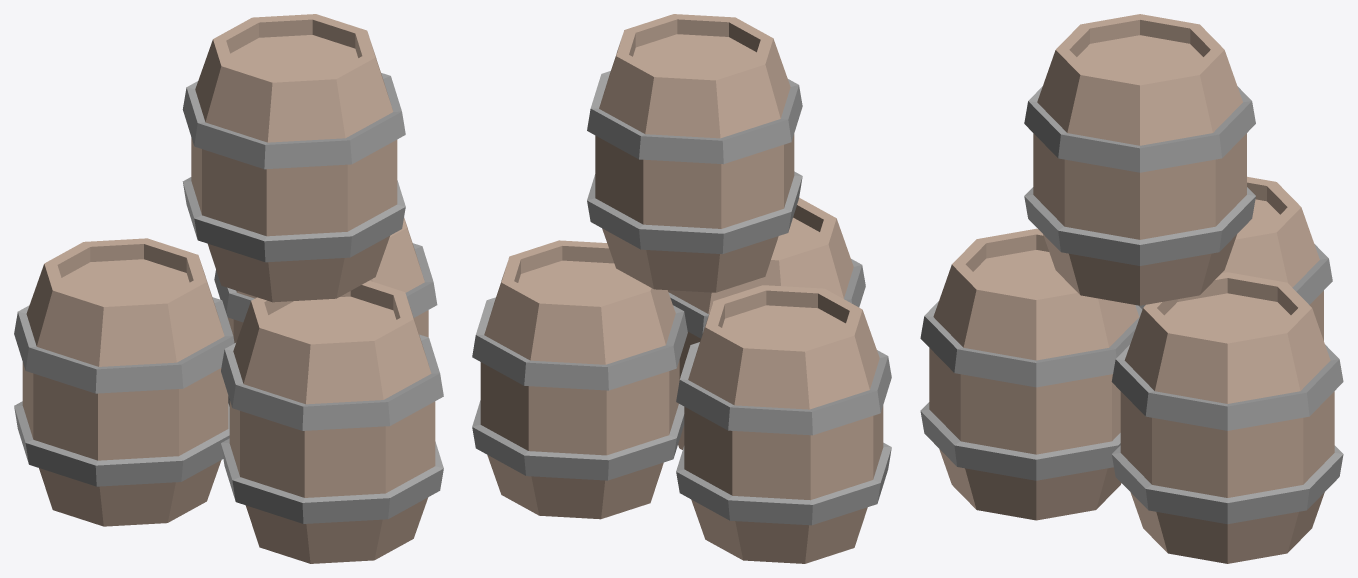
Rendered from barrels.fbx.
3 views of the same model, side by side, from view 1: azimuth 30°, elevation 25°; view 2: azimuth 150°, elevation 25°; view 3: azimuth 270°, elevation 25° (orthographic). The views are drawn at different scales.
Visible parts, largest first — view 1: barrel6, barrel4, barrel, barrel5; view 2: barrel4, barrel6, barrel5, barrel; view 3: barrel6, barrel5, barrel, barrel4.
Boxes of the visible parts, x1=… form: barrel6: x1=182, y1=14, x2=405, y2=302; barrel4: x1=14, y1=238, x2=234, y2=526; barrel: x1=221, y1=280, x2=443, y2=563; barrel5: x1=214, y1=217, x2=437, y2=406; barrel4: x1=676, y1=285, x2=891, y2=563; barrel6: x1=587, y1=14, x2=802, y2=292; barrel5: x1=472, y1=240, x2=687, y2=519; barrel: x1=667, y1=197, x2=865, y2=449; barrel6: x1=1024, y1=14, x2=1255, y2=305; barrel5: x1=1111, y1=272, x2=1343, y2=563; barrel: x1=920, y1=228, x2=1142, y2=520; barrel4: x1=1139, y1=176, x2=1332, y2=340.
Bounding box in the file's own units: 1.43 × 1.49 × 1.29.
